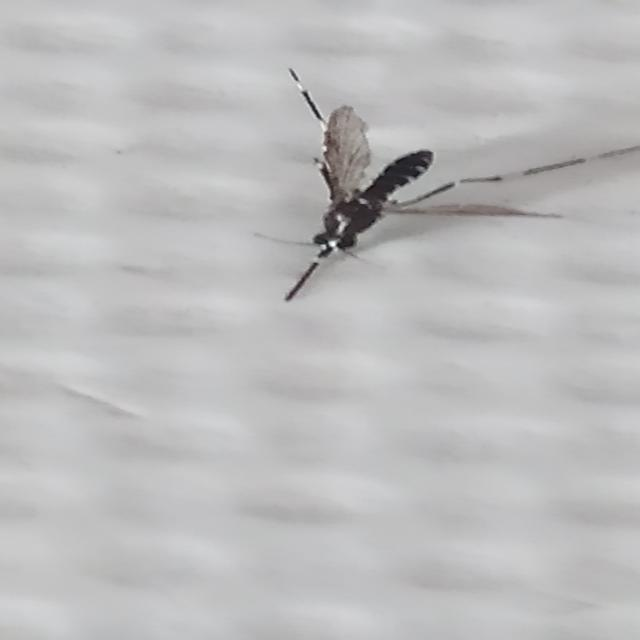albopictus: (220, 60, 620, 297)
